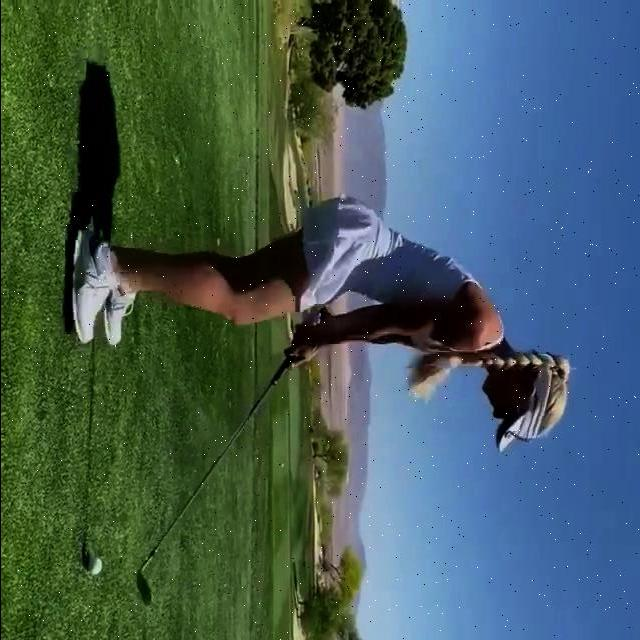golf ball: (87, 554, 103, 574)
golf club-handle: (134, 305, 329, 607)
golf club-head: (134, 574, 151, 607)
